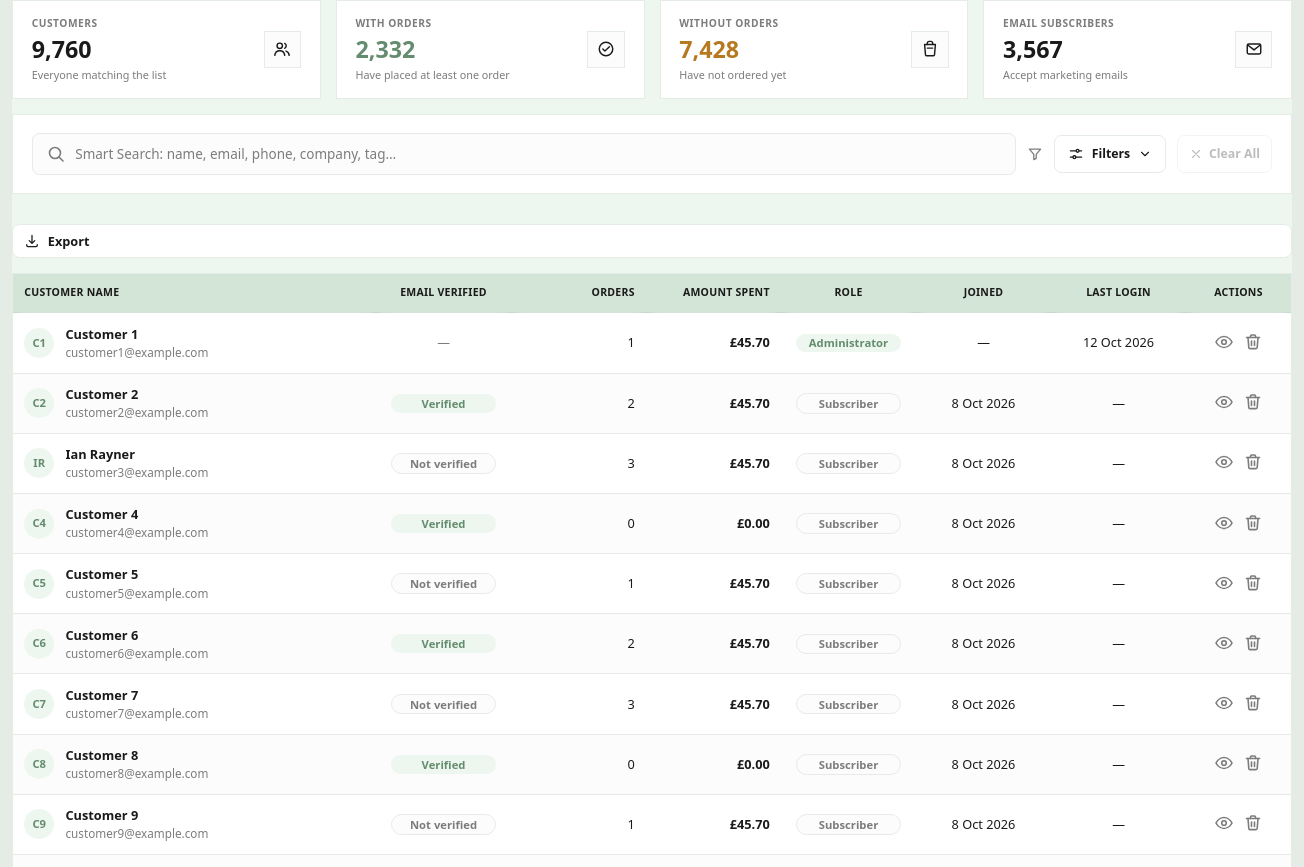
CustomersPage › starts with the filter grid collapsed and reveals it from the Filters button
Expected: the text "Customer 2" is shown, [66,385,138,403]
Click the button "Filters" at coordinates (1110, 154), box [1054,135,1166,173]
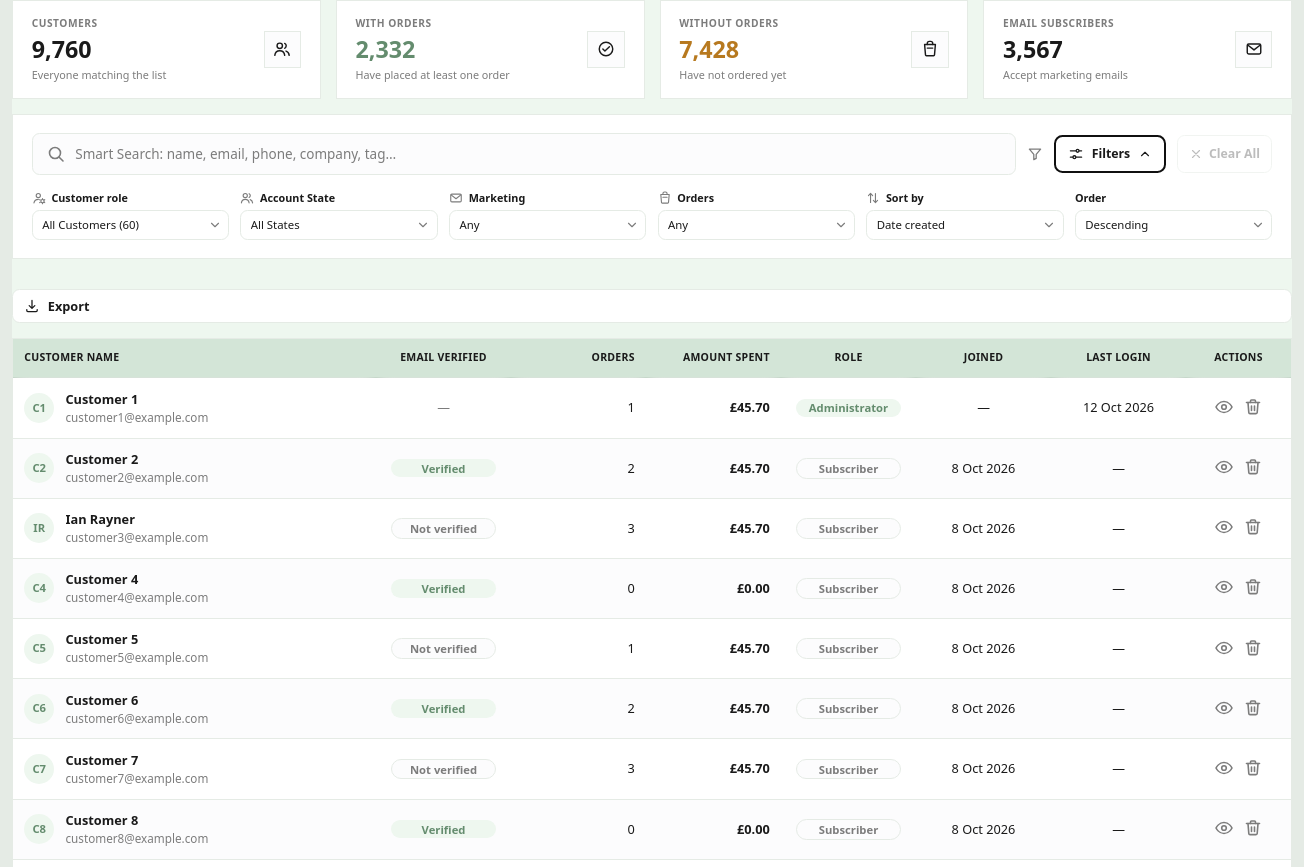
Result: the button "Filters" is expanded
Click the button "Filters" at coordinates (1110, 154), box [1054,135,1166,173]
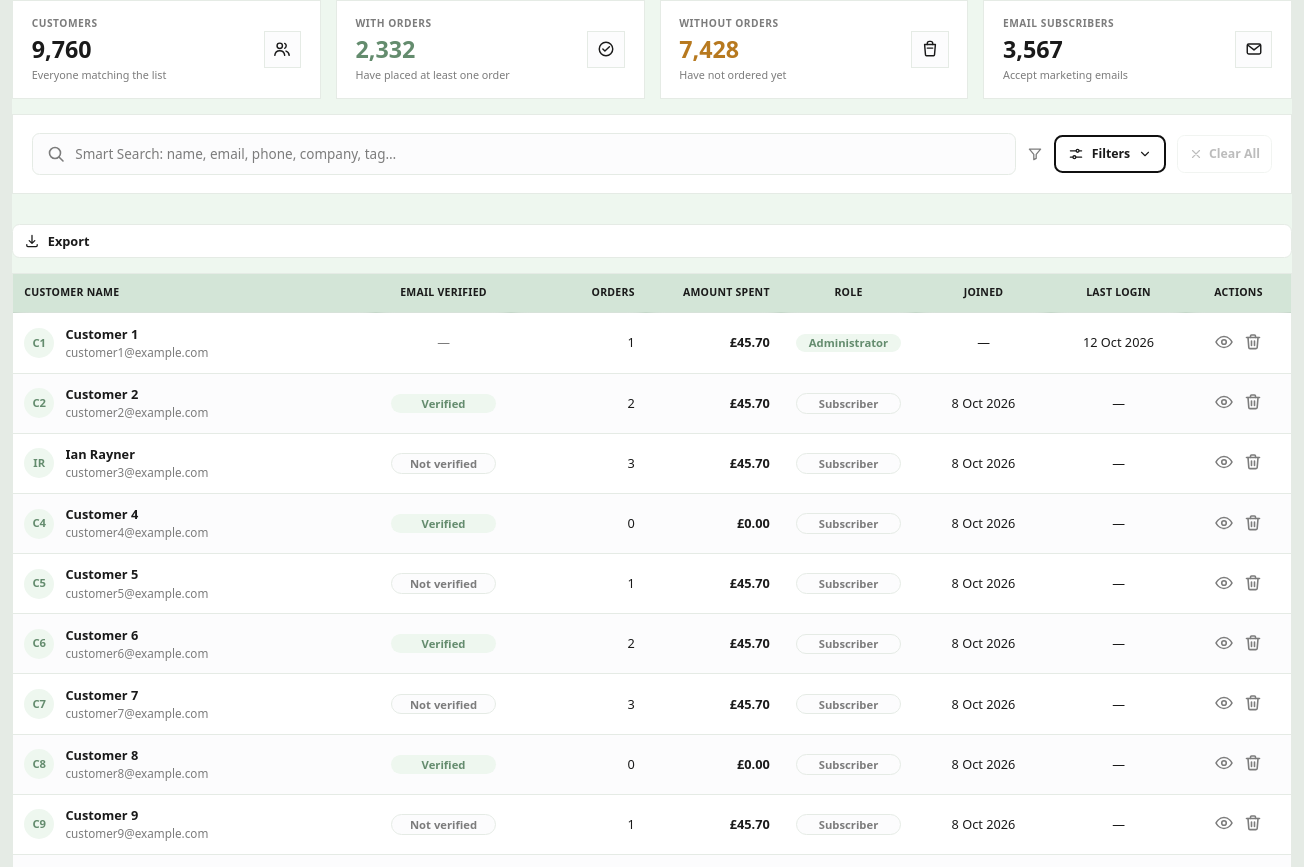
Result: the button "Filters" is collapsed at [1054,135,1166,173]
